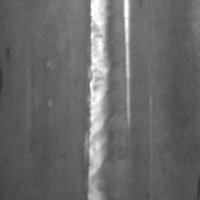scratches: (84, 1, 119, 200), (121, 1, 133, 132)
